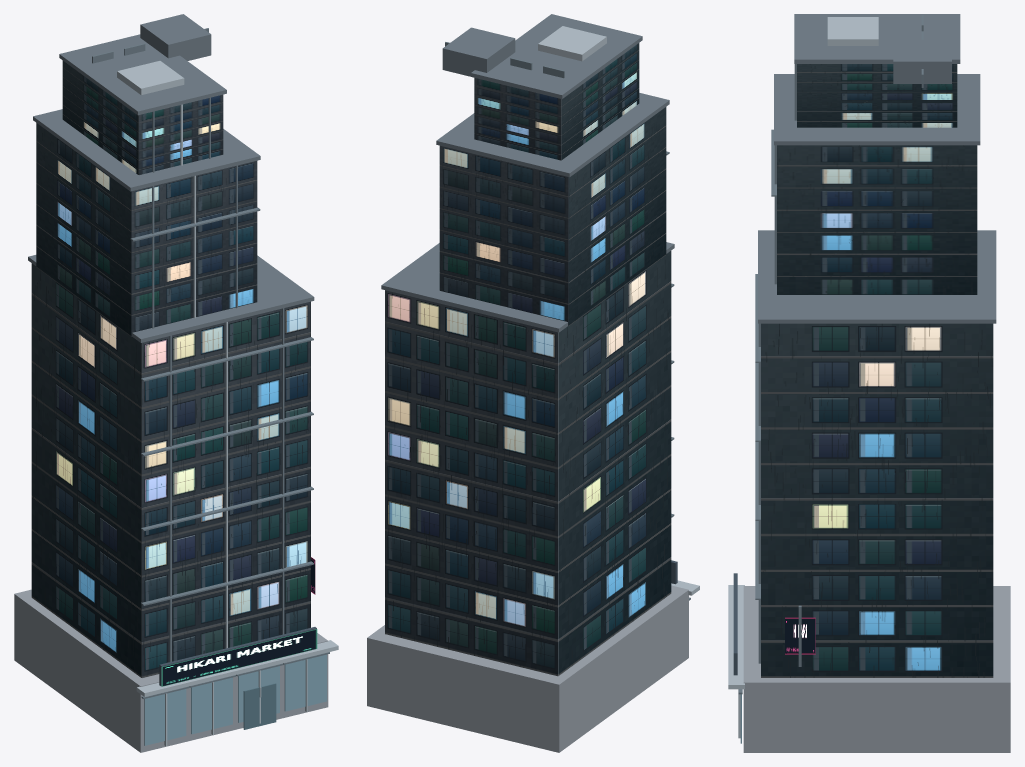
File: building_04.glb
The picture shows the model from 3 angles, left to right: view 1: azimuth 30°, elevation 25°; view 2: azimuth 150°, elevation 25°; view 3: azimuth 270°, elevation 25°; orthographic projection. The views are drawn at different scales.
Parts seen in each view (by area): view 1: facade_0, facade_sideb_3, facade_4, roof, facade_sideb_7, concrete, frame, glass, alum, facade_8, facade_sideb_11, sign_12 (+2 smaller); view 2: facade_back_1, facade_sideb_3, concrete, facade_back_5, roof, facade_sideb_7, facade_back_9, facade_sideb_11, alum; view 3: facade_side_2, facade_side_6, roof, concrete, facade_side_10, frame, alum, side_sign_13, dark.
Part boxes in pixels (x1,y1,x2,y2): facade_0: [142, 301, 310, 677]; facade_sideb_3: [31, 263, 141, 677]; facade_4: [131, 161, 257, 336]; roof: [28, 14, 314, 342]; facade_sideb_7: [36, 123, 131, 336]; concrete: [14, 115, 328, 752]; frame: [92, 28, 329, 699]; glass: [144, 654, 326, 745]; alum: [117, 61, 338, 746]; facade_8: [139, 94, 223, 174]; facade_sideb_11: [62, 60, 138, 174]; sign_12: [161, 629, 317, 686]; facade_back_1: [385, 290, 557, 676]; facade_sideb_3: [558, 251, 671, 675]; concrete: [367, 99, 688, 752]; facade_back_5: [440, 145, 568, 325]; roof: [381, 14, 674, 332]; facade_sideb_7: [569, 107, 666, 325]; facade_back_9: [474, 78, 560, 160]; facade_sideb_11: [561, 43, 639, 160]; alum: [538, 26, 699, 595]; facade_side_2: [761, 323, 993, 677]; facade_side_6: [777, 145, 977, 294]; roof: [758, 14, 996, 323]; concrete: [743, 586, 1010, 752]; facade_side_10: [797, 64, 957, 127]; frame: [738, 15, 923, 694]; alum: [728, 17, 878, 738]; side_sign_13: [785, 617, 815, 654]; dark: [733, 573, 737, 675].
Size of the model in its own units: 23.75 by 72.2 by 27.7.
23 materials, 14 textured.
